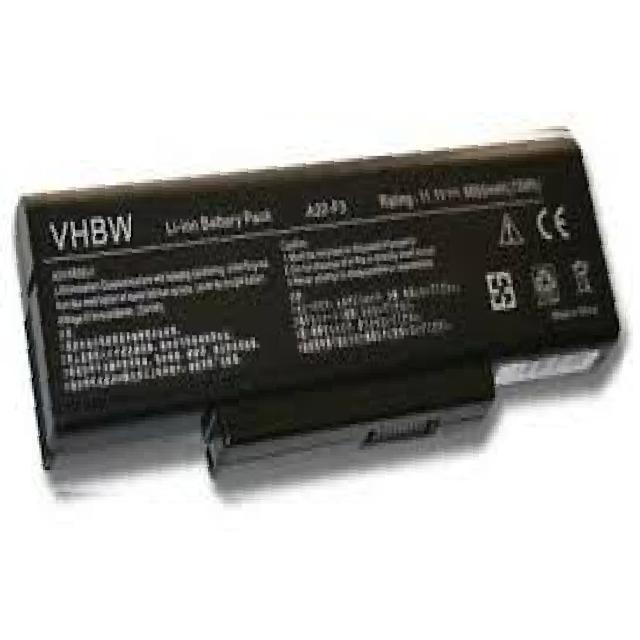Battery: (14, 118, 640, 532)
